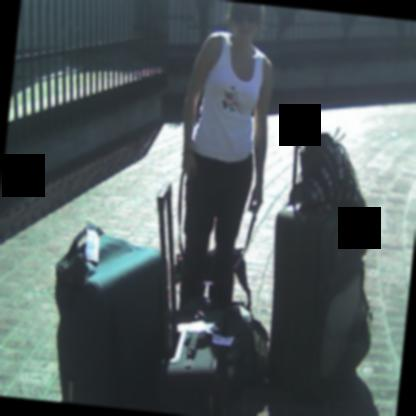backpack: (213, 249, 266, 416), (291, 118, 366, 204)
handbag: (298, 127, 364, 212)
suitcase: (268, 131, 372, 394), (53, 224, 162, 412), (156, 181, 230, 416)
